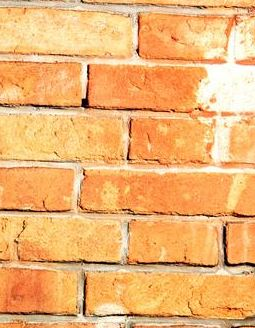brick: (84, 268, 255, 321), (79, 167, 255, 217), (1, 6, 135, 59), (87, 62, 208, 113), (1, 114, 125, 161), (1, 218, 123, 264), (128, 217, 220, 268), (129, 115, 218, 167), (136, 12, 234, 59), (1, 60, 84, 105), (1, 270, 79, 315), (1, 167, 77, 211)
